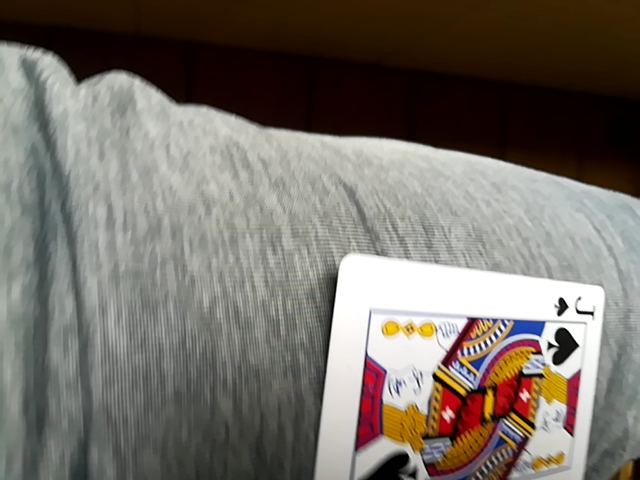ht j: (310, 253, 611, 479)
